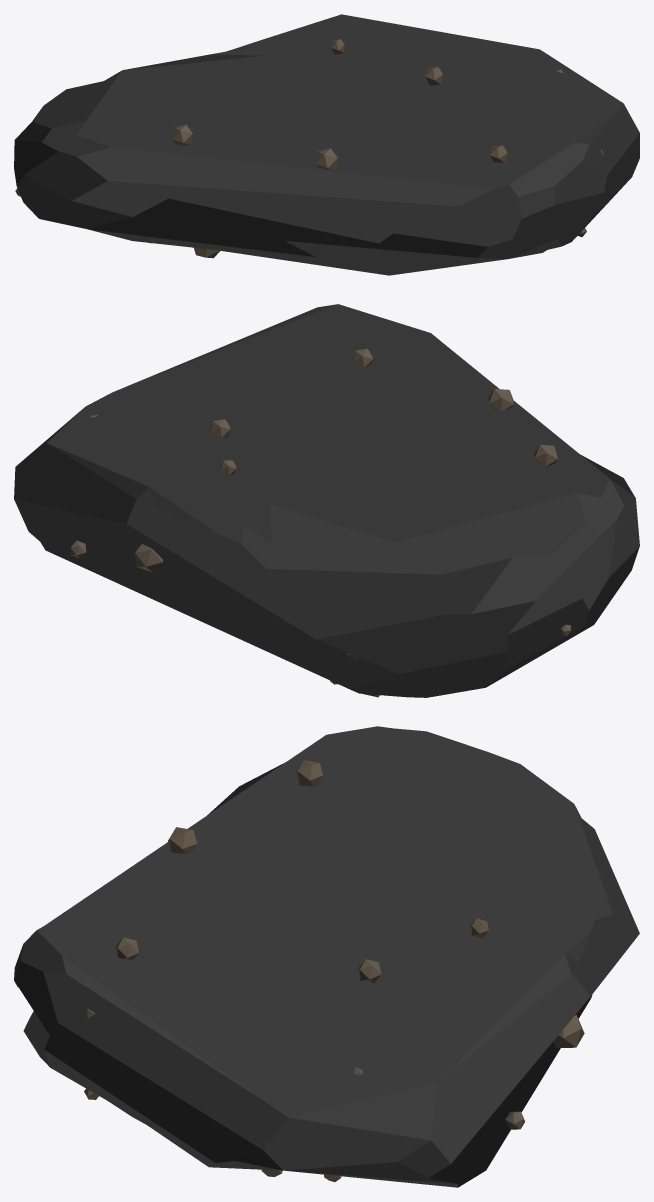
Rendered from Lowpoly_IronRock02.fbx.
3 renders of one model, top to bottom at view 1: azimuth 30°, elevation 25°; view 2: azimuth 150°, elevation 25°; view 3: azimuth 270°, elevation 25°, orthographic. The views are drawn at different scales.
Visible parts, largest first — view 1: IronRock02; view 2: IronRock02; view 3: IronRock02.
Boxes of the visible parts, left/top/right/bottom form: IronRock02: left=14, top=14, right=639, bottom=275; IronRock02: left=14, top=304, right=639, bottom=697; IronRock02: left=14, top=726, right=639, bottom=1187.
Bounding box in the file's own units: 1036 × 368 × 816.
